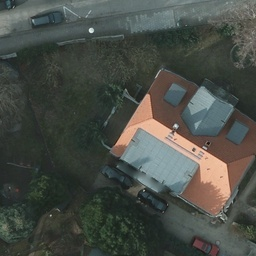car: (137, 188, 168, 211), (28, 10, 62, 27), (99, 166, 131, 184), (190, 240, 219, 255), (1, 1, 16, 11)
